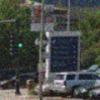cars: (52, 71, 100, 97)
